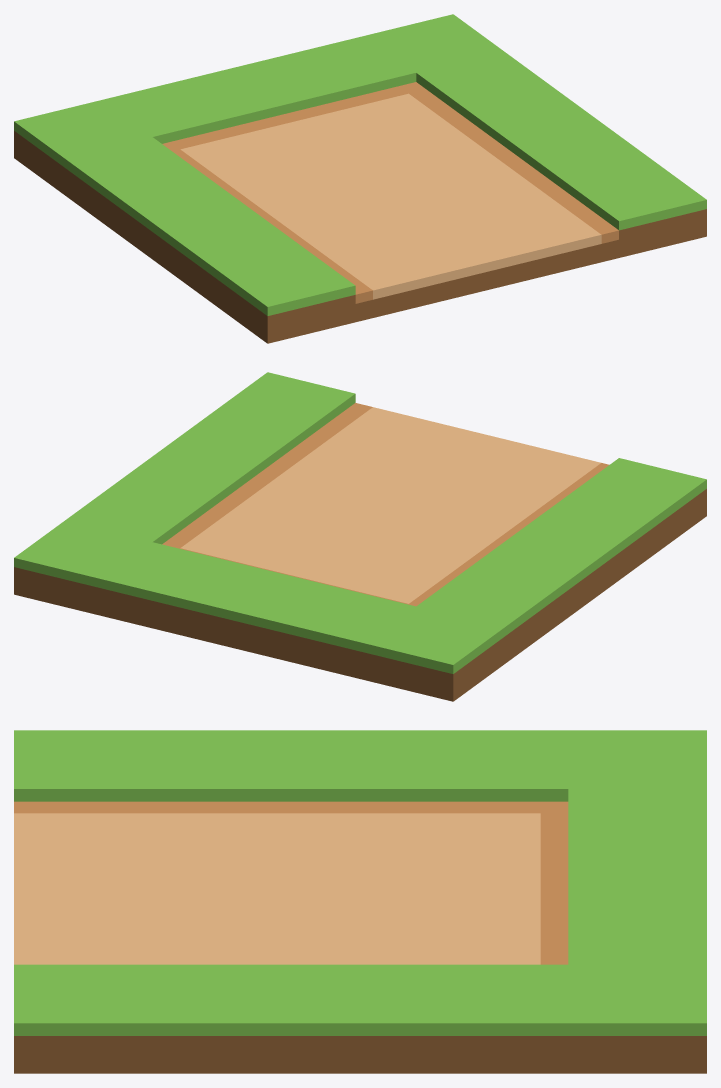
File: path_end_b.glb
3 views of the same model, one above another, from view 1: azimuth 30°, elevation 25°; view 2: azimuth 150°, elevation 25°; view 3: azimuth 270°, elevation 25° (orthographic). The views are drawn at different scales.
Parts seen in each view (by area): view 1: model_0; view 2: model_0; view 3: model_0.
Part boxes in pixels (left/top/right/bottom): model_0: left=14, top=14, right=706, bottom=343; model_0: left=14, top=372, right=706, bottom=701; model_0: left=14, top=730, right=706, bottom=1073.
Size of the model in its own units: 2 by 0.16 by 2.
